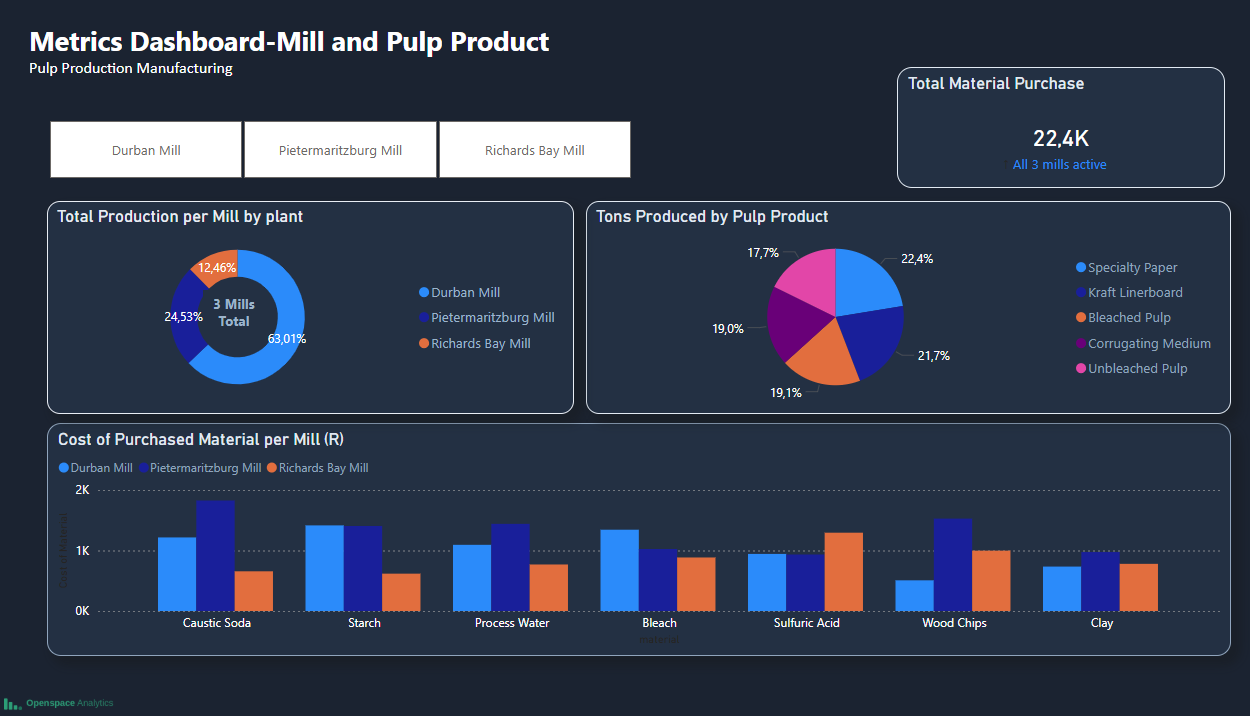

What the dashboard file says about the page in this screenshot:
{"tool":"powerbi","page":{"name":"Page 2","canvas":[1280,720],"ordinal":1},"visuals":[{"type":"clusteredColumnChart","title":"Cost of Purchased Material per Mill (R)","fields":{"Y":["Sum(analytics purchase_by_product_and_plant.total_cost)"],"Category":["analytics purchase_by_product_and_plant.material"],"Series":["Dim_Plant.Plant"]},"box":[47.7,423.1,1184.7,232.5],"z":0},{"type":"donutChart","title":"Production Distribution by Plant","fields":{"Y":["Sum(analytics production_by_plant.total_production)"],"Category":["Dim_Plant.Plant"]},"box":[47.7,201.3,527.2,213],"z":1000,"group":"g1"},{"type":"pieChart","title":"Tons Produced by Pulp Product","fields":{"Category":["analytics vw_production_summary.product"],"Y":["Sum(analytics vw_production_summary.total_production_tons)"]},"box":[586.5,201.3,645.8,213],"z":1000},{"type":"textbox","box":[25.3,16.5,1240.1,93.4],"z":2000},{"type":"card","title":"Total Material Purchase","fields":{"Values":["Sum(analytics purchase_by_product_and_plant.total_cost)"]},"box":[645,94,202,94],"z":3000,"group":"g2"},{"type":"slicer","fields":{"Values":["Dim_Plant.Plant"]},"box":[25.3,94.3,630.3,71],"z":3000},{"type":"group","id":"g1","title":"Group 1","box":[47.7,201.3,527.2,213],"z":4000},{"type":"group","id":"g2","title":"Group 2","box":[645,94,202,94],"z":5000},{"type":"image","box":[0,683.8,204.3,36],"z":6000},{"type":"cardVisual","title":"Top Material","fields":{"Data":["analytics purchase_by_product_and_plant.Top Material"]},"box":[860,94,168,94],"z":7000},{"type":"cardVisual","title":"Top Material Quantity","fields":{"Data":["analytics purchase_by_product_and_plant.Top Material Quantity"]},"box":[1041,94,182,94],"z":8000}]}

Visuals, with their boxes in screenshot pixels (x1, y1, x2, y2), scaled from the page's 1280x720 canvas onto the 1250x716 screenshot:
"Cost of Purchased Material per Mill (R)" clusteredColumnChart: [x1=47, y1=421, x2=1204, y2=652]
"Production Distribution by Plant" donutChart: [x1=47, y1=200, x2=561, y2=412]
"Tons Produced by Pulp Product" pieChart: [x1=573, y1=200, x2=1203, y2=412]
textbox: [x1=25, y1=16, x2=1236, y2=109]
"Total Material Purchase" card: [x1=630, y1=93, x2=827, y2=187]
slicer - Dim_Plant.Plant: [x1=25, y1=94, x2=640, y2=164]
"Group 1" group: [x1=47, y1=200, x2=561, y2=412]
"Group 2" group: [x1=630, y1=93, x2=827, y2=187]
image: [x1=0, y1=680, x2=200, y2=715]
"Top Material" cardVisual: [x1=840, y1=93, x2=1004, y2=187]
"Top Material Quantity" cardVisual: [x1=1017, y1=93, x2=1194, y2=187]
